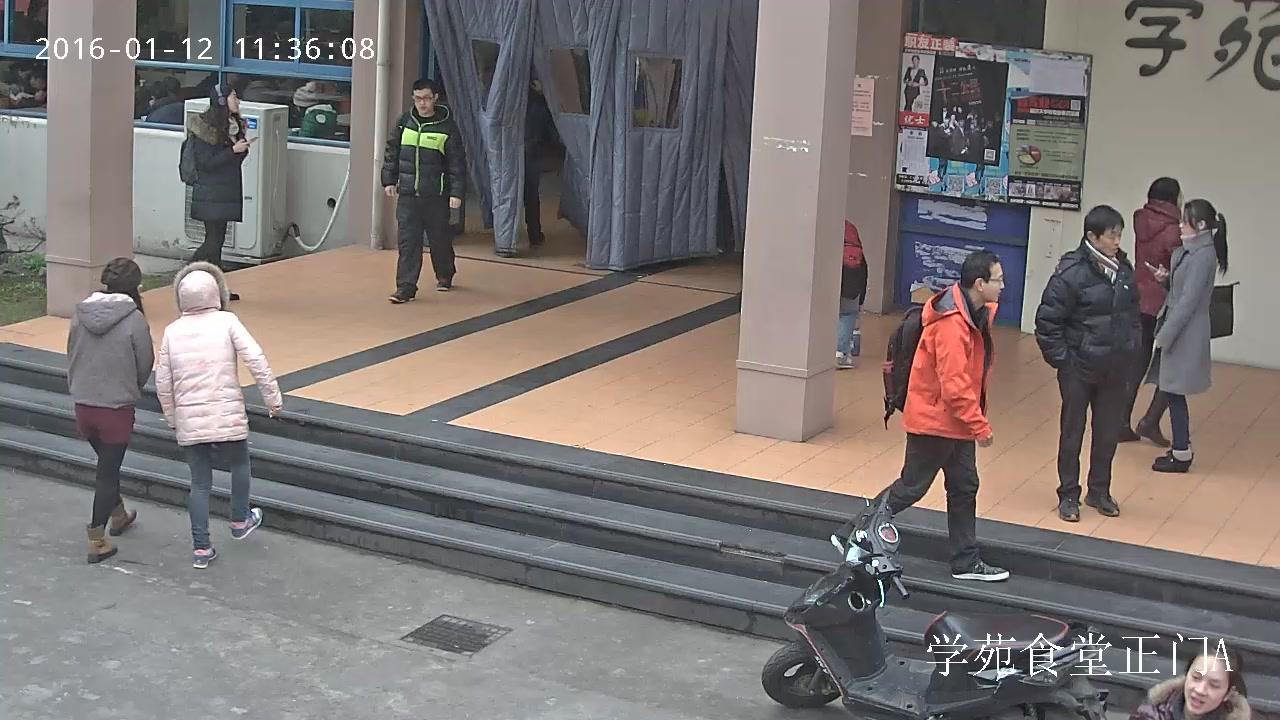person: (832, 250, 1008, 580), (155, 262, 281, 567), (1034, 205, 1139, 521), (1141, 199, 1239, 471), (67, 258, 154, 563), (380, 79, 467, 303), (1117, 175, 1184, 446), (178, 83, 247, 302), (1126, 637, 1268, 720), (523, 62, 560, 245), (837, 217, 867, 368), (293, 81, 338, 137), (143, 81, 184, 125), (8, 64, 46, 106), (903, 56, 928, 113)
